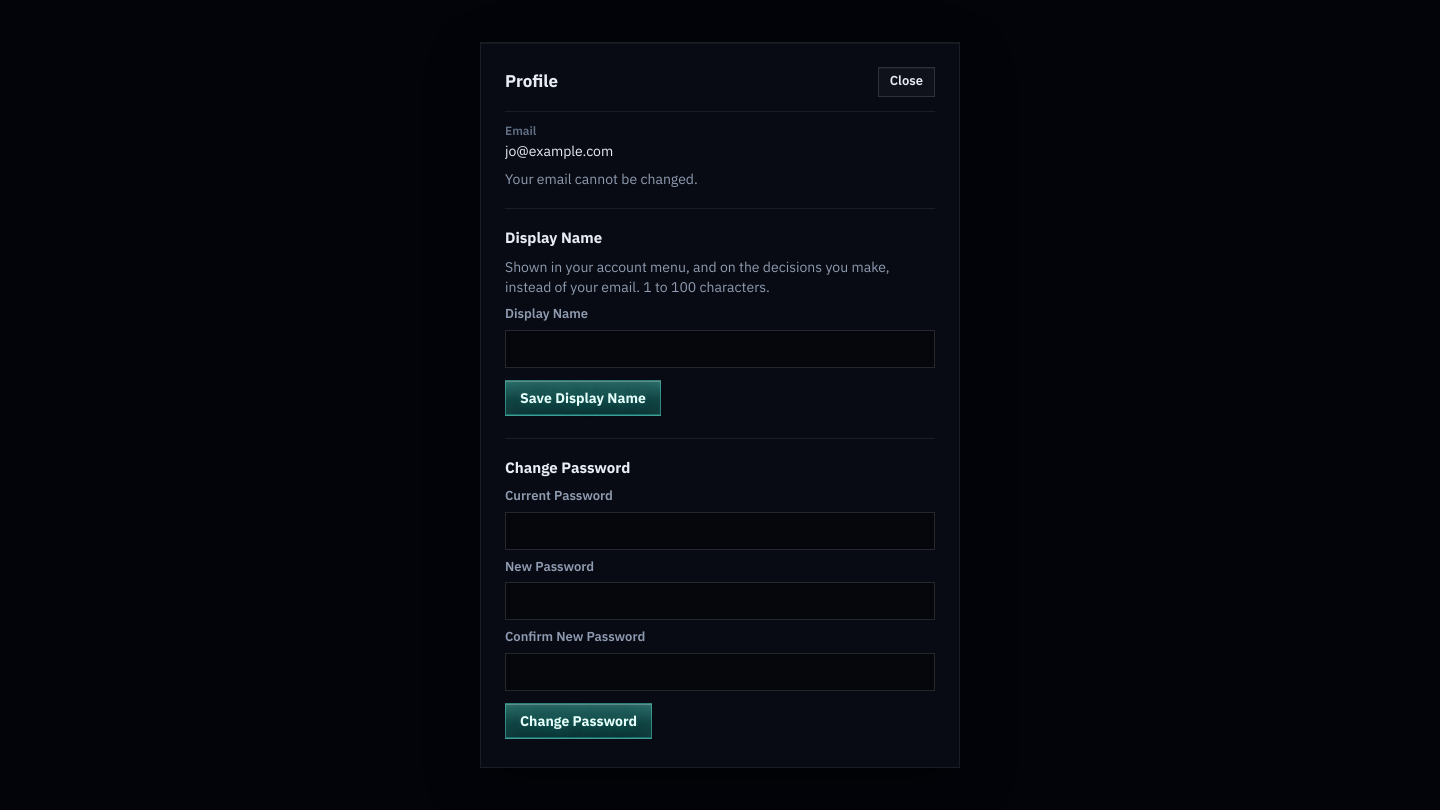
Test case: Profile window: the display name › shows the backend's message when it refuses the name
In the field labelled "Display Name": (720, 349) [505, 330, 935, 368], type "Jo"
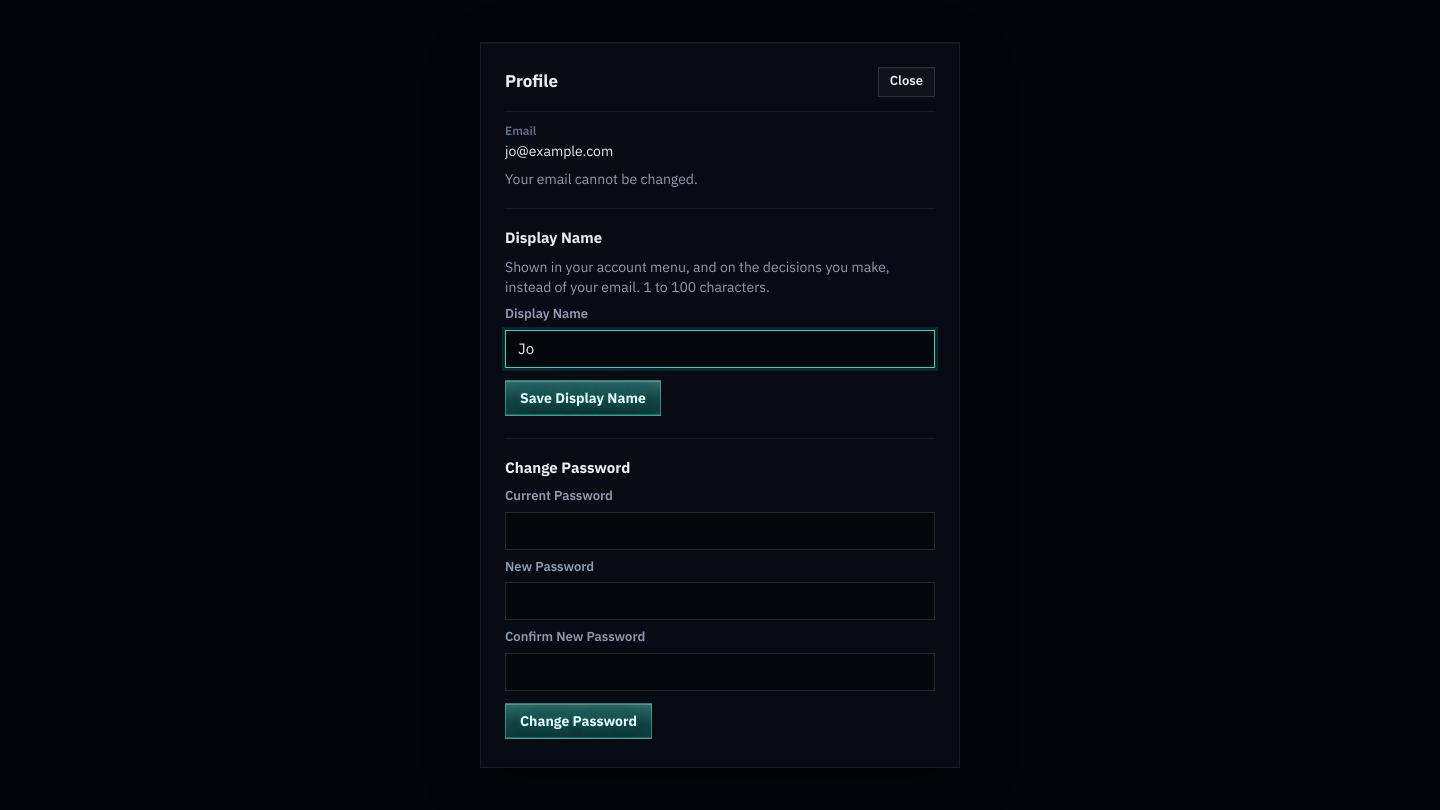
Click the button "Save Display Name": (583, 398) [505, 380, 661, 416]
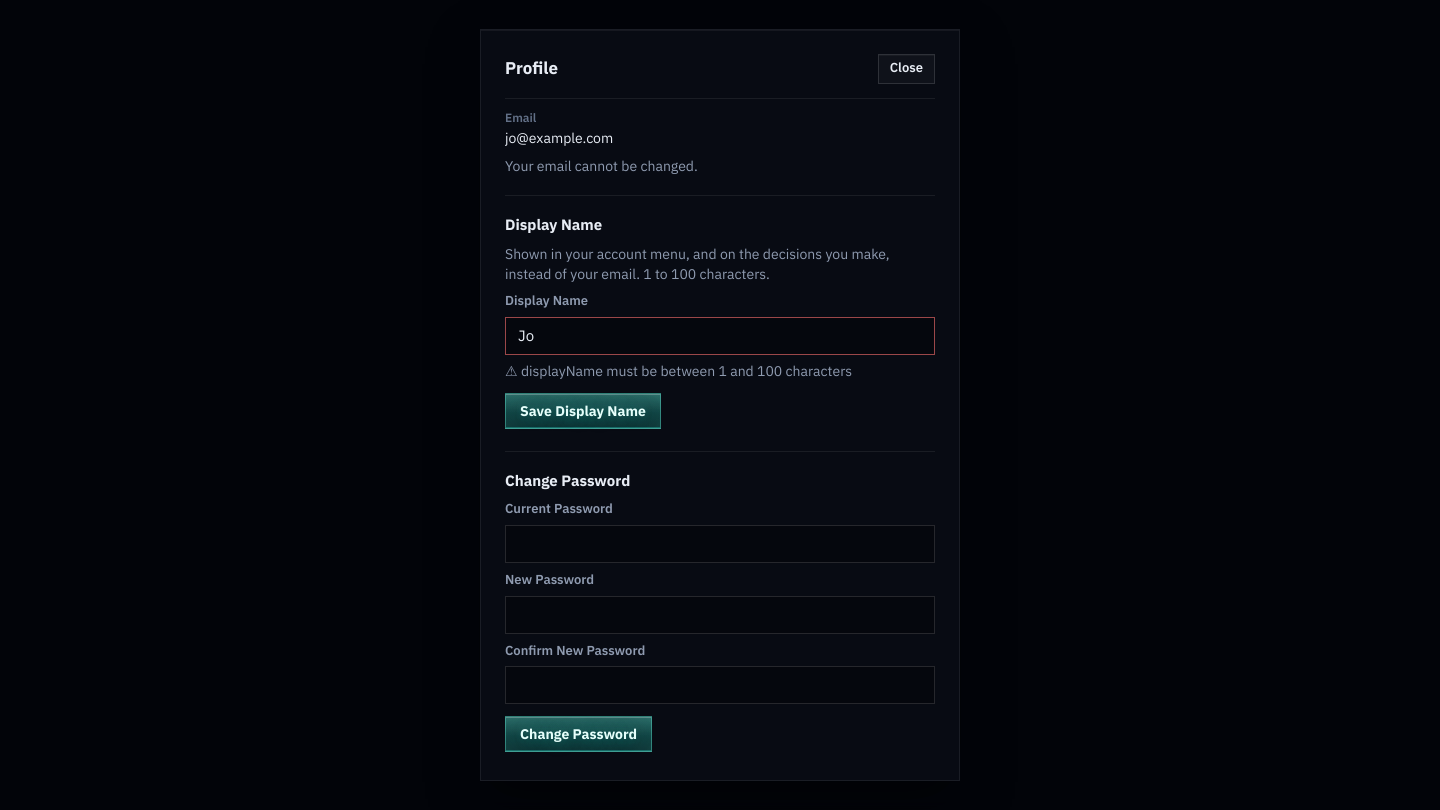
Expected: the text "displayName must be between 1 and 100 characters" is shown, [521, 362, 852, 380]
